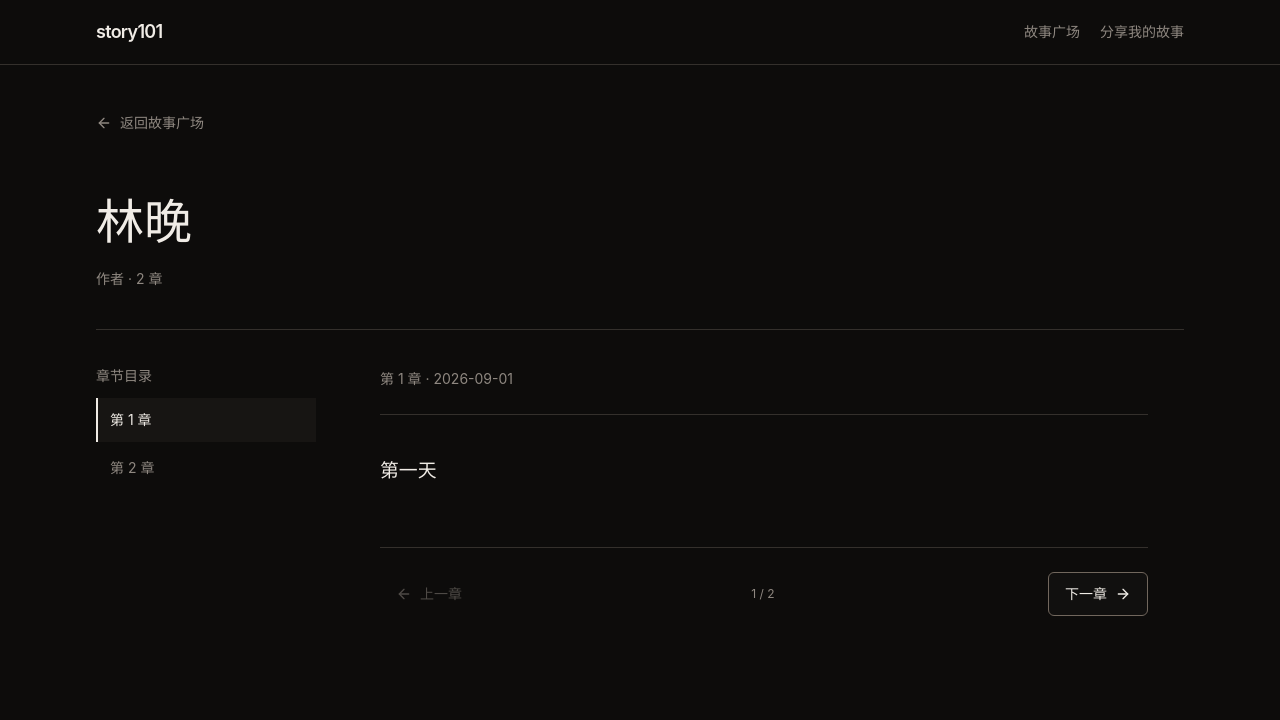
it: reads chapters from a direct public link
Expected: the text "第一天" is shown, [380, 460, 437, 481]
Click the button "下一章": (1098, 594) [1048, 572, 1148, 616]
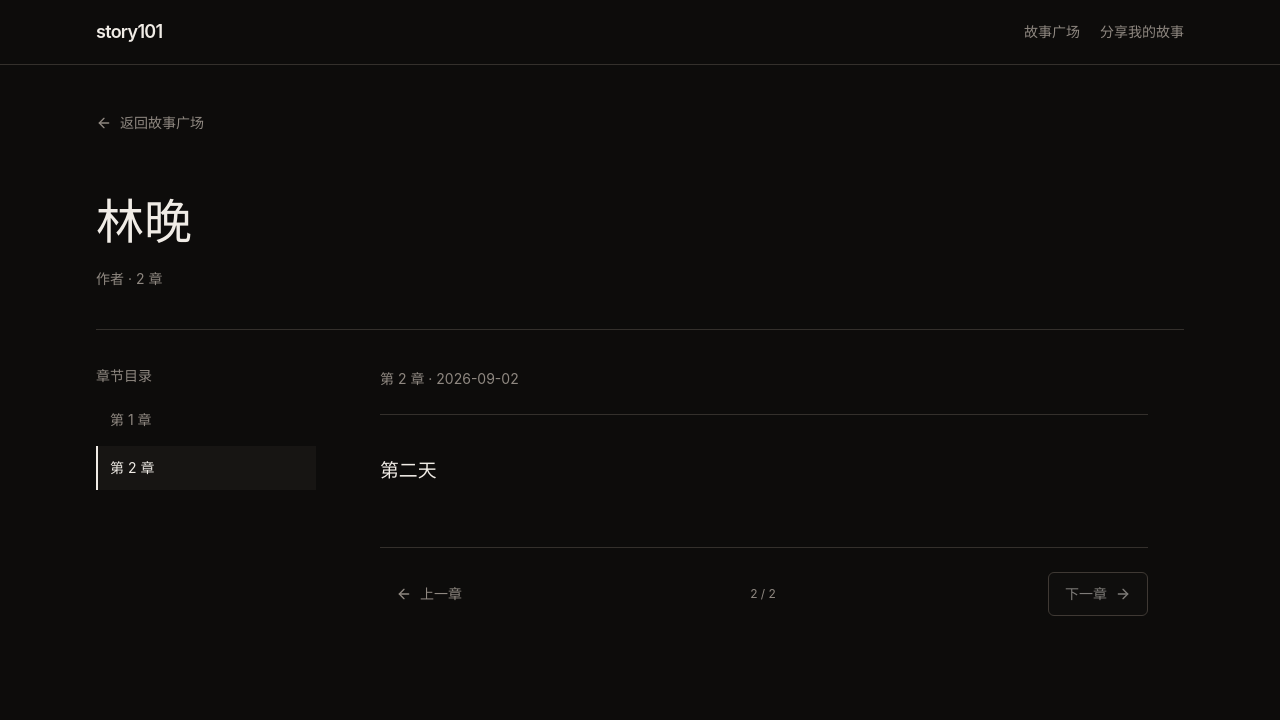
Expected: the text "第二天" is shown, [380, 460, 437, 481]
